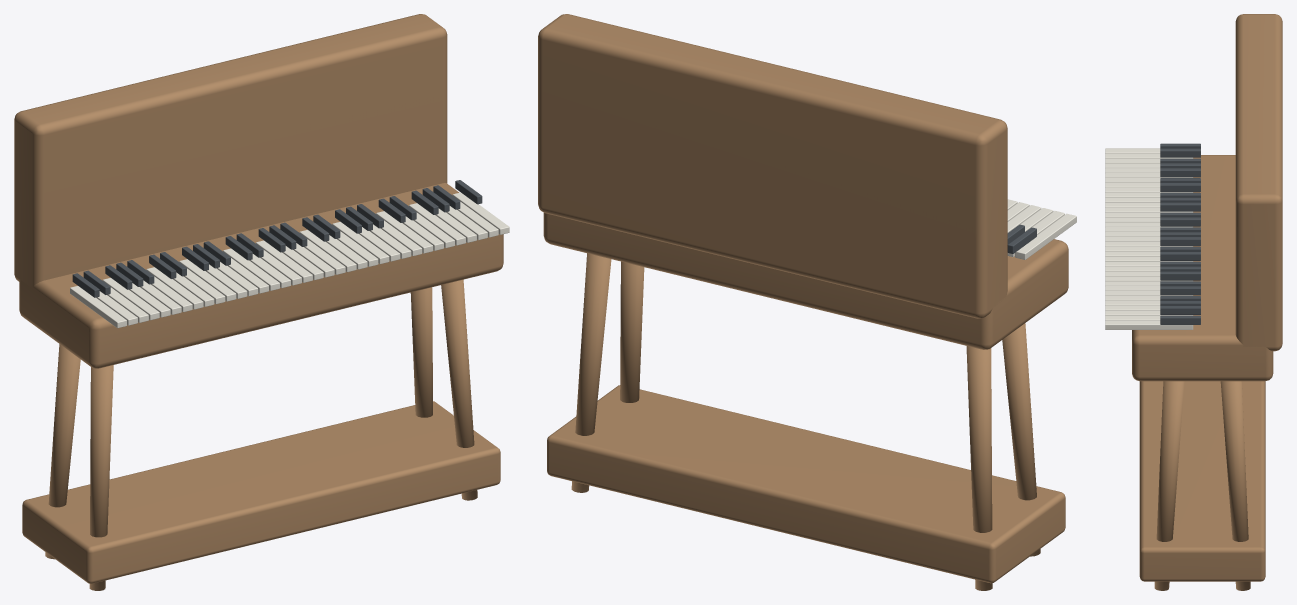
Rendered from atelier-piano.glb.
The picture shows the model from 3 angles, left to right: view 1: azimuth 30°, elevation 25°; view 2: azimuth 150°, elevation 25°; view 3: azimuth 270°, elevation 25°; orthographic projection. The views are drawn at different scales.
Visible parts, largest first — view 1: legs.224, ceramic.148, metal.191; view 2: legs.224, ceramic.148; view 3: legs.224, ceramic.148, metal.191.
Part boxes in pixels (x1,y1,x2,y2): legs.224: (14, 14, 503, 590); ceramic.148: (70, 192, 509, 328); metal.191: (72, 180, 482, 297); legs.224: (538, 14, 1068, 590); ceramic.148: (1007, 199, 1076, 259); legs.224: (1132, 14, 1282, 590); ceramic.148: (1105, 148, 1193, 329); metal.191: (1160, 143, 1200, 324).
Bounding box in the file's own units: 1.4 × 1.41 × 0.565.
